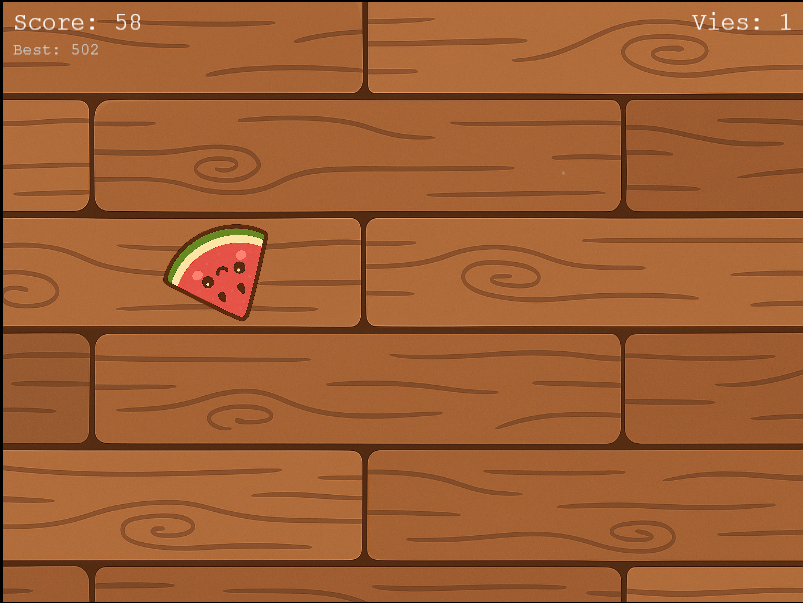fruit: (160, 218, 270, 321)
